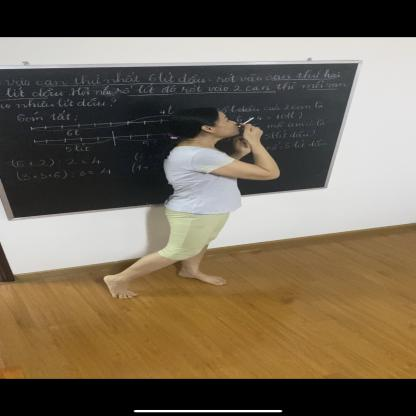cigarette: (242, 116, 256, 125)
person: (102, 108, 282, 304)
